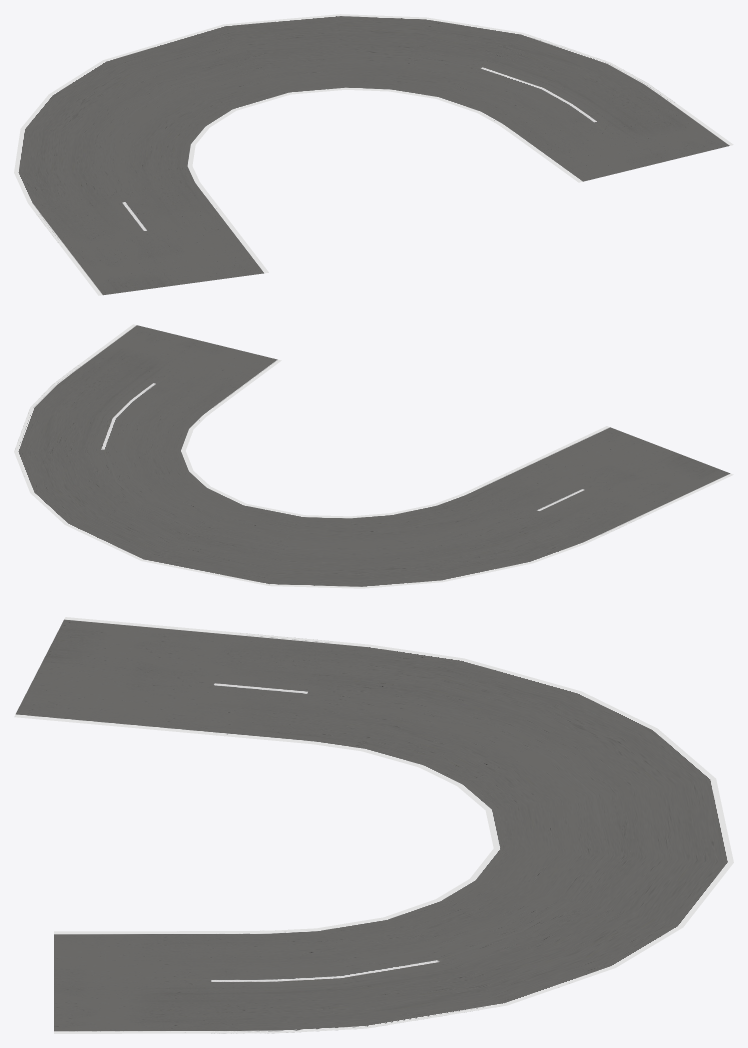
Rendered from sideRoad.obj.
The picture shows the model from 3 angles, top to bottom: view 1: azimuth 30°, elevation 25°; view 2: azimuth 150°, elevation 25°; view 3: azimuth 270°, elevation 25°; orthographic projection. The views are drawn at different scales.
Visible parts, largest first — view 1: Plane_Plane.003; view 2: Plane_Plane.003; view 3: Plane_Plane.003.
Part boxes in pixels (x1,y1,x2,y2): Plane_Plane.003: [14, 14, 733, 295]; Plane_Plane.003: [14, 324, 733, 588]; Plane_Plane.003: [14, 617, 733, 1033].
Bounding box in the file's own units: 26.84 × 3.99e-06 × 19.59.
